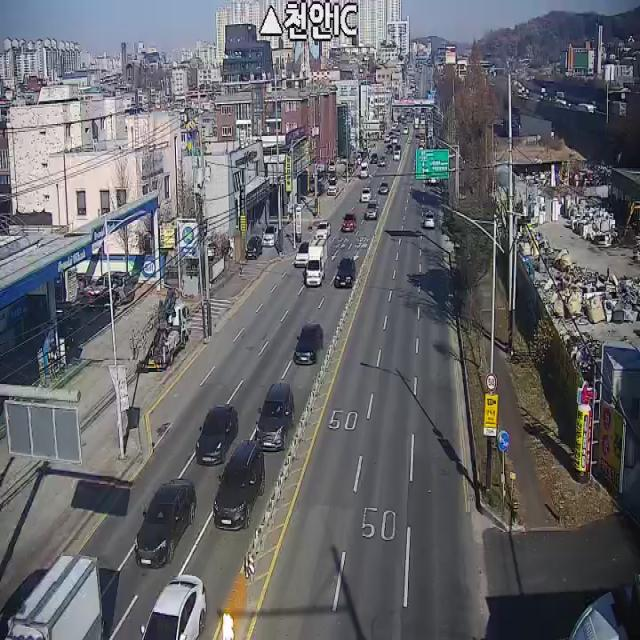Car: (134, 479, 197, 569), (213, 440, 265, 530), (140, 574, 208, 640), (256, 382, 296, 452), (196, 404, 238, 466), (96, 271, 134, 306), (293, 324, 323, 366), (336, 258, 356, 288), (246, 236, 262, 259), (294, 243, 309, 267), (262, 224, 278, 246), (341, 213, 356, 231), (315, 222, 331, 237), (366, 201, 379, 219), (424, 214, 435, 228), (361, 188, 372, 202), (328, 181, 339, 195), (360, 162, 369, 178), (379, 181, 388, 193), (370, 153, 378, 163)
Truck: (4, 554, 104, 640), (132, 288, 190, 371), (306, 237, 328, 286)
